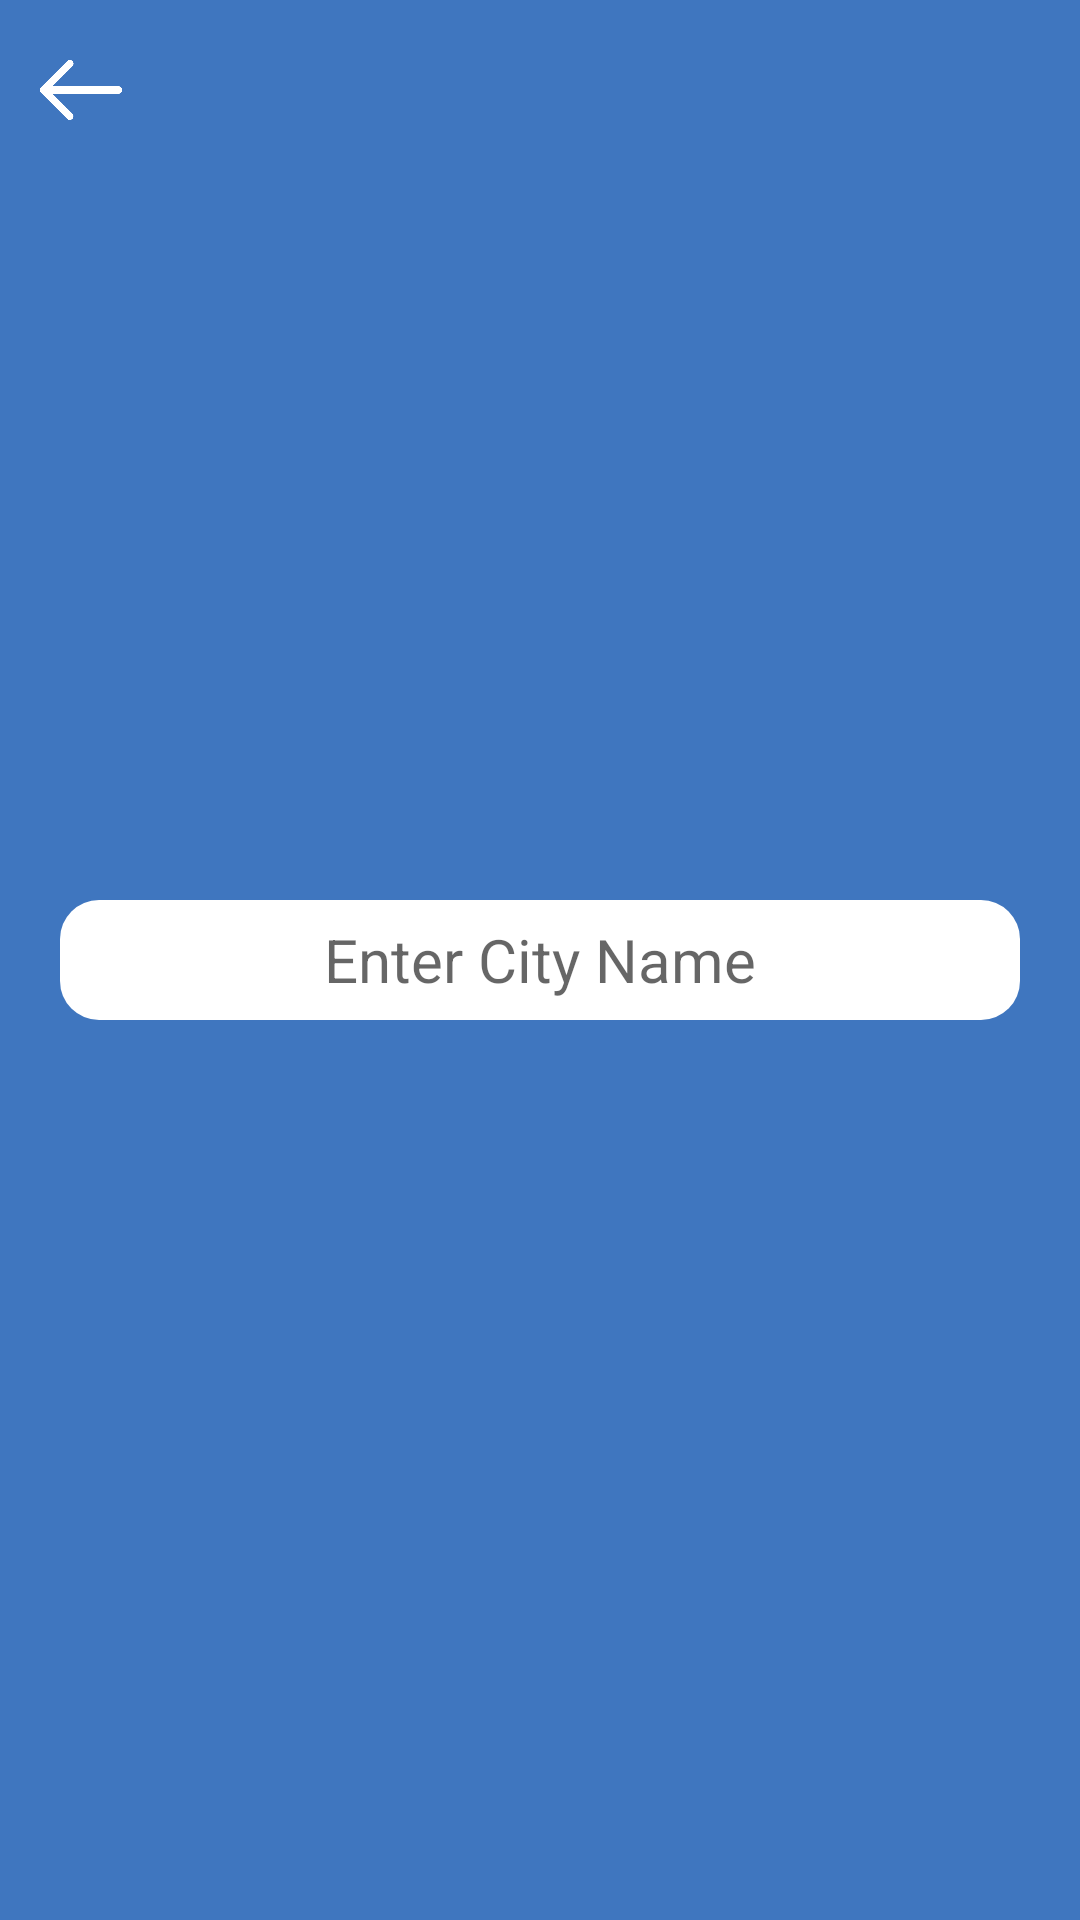

Screen size 1080 × 1920. Icon name, then its box in pixels as (x1, y1, x2, y2):
back: (40, 60, 122, 120)
